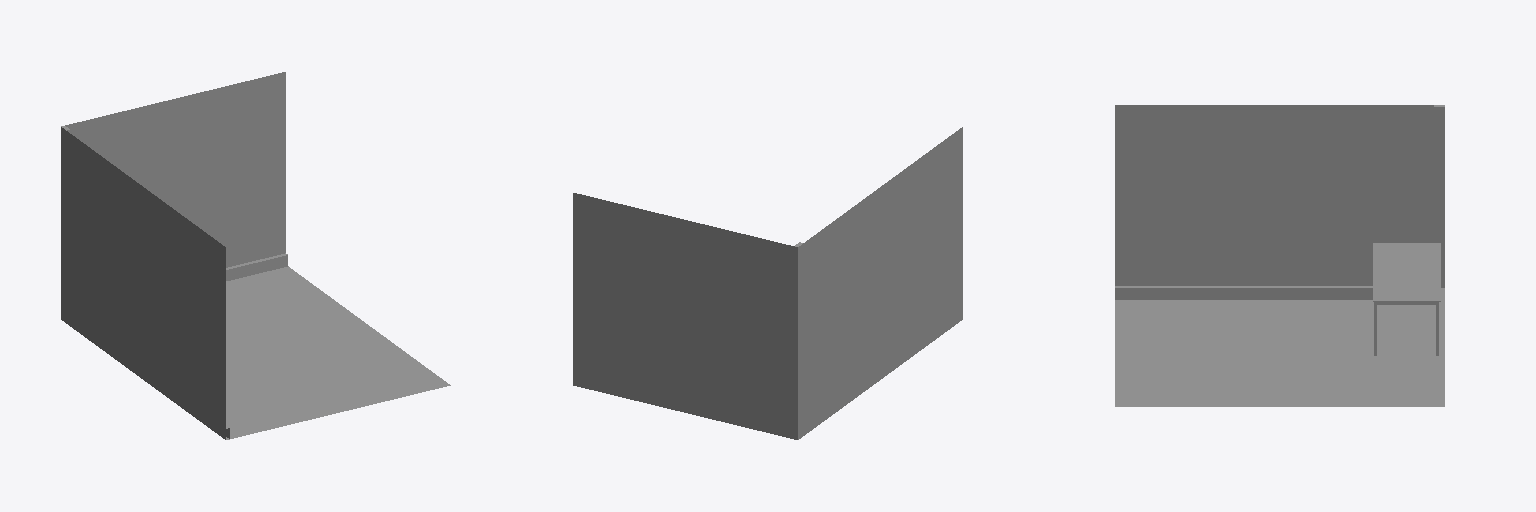
Rendered from all_001.obj.
3 views of the same model, side by side, from view 1: azimuth 30°, elevation 25°; view 2: azimuth 150°, elevation 25°; view 3: azimuth 270°, elevation 25° (orthographic).
Parts seen in each view (by area): view 1: all_001_Cube.005; view 2: all_001_Cube.005; view 3: all_001_Cube.005.
Part boxes in pixels (left/top/right/bottom): all_001_Cube.005: left=61, top=72, right=450, bottom=439; all_001_Cube.005: left=573, top=127, right=962, bottom=439; all_001_Cube.005: left=1115, top=105, right=1444, bottom=406.
Size of the model in its own units: 3.05 by 2.5 by 3.87.